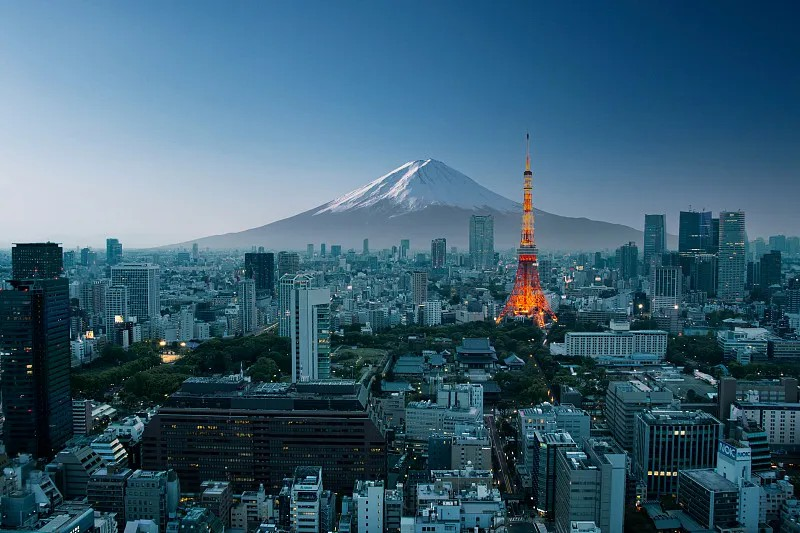Tokyo: (495, 128, 561, 323)
